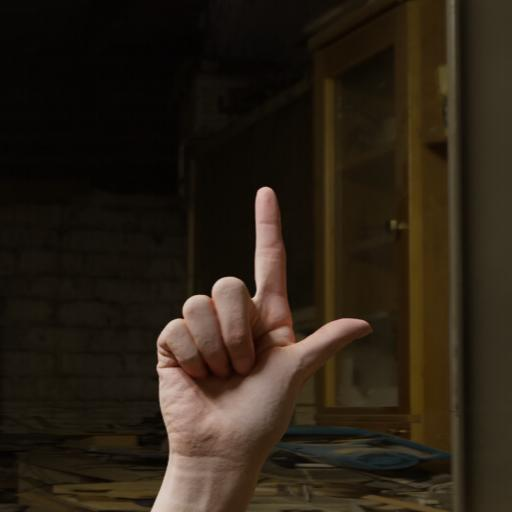L: (152, 183, 377, 463)
